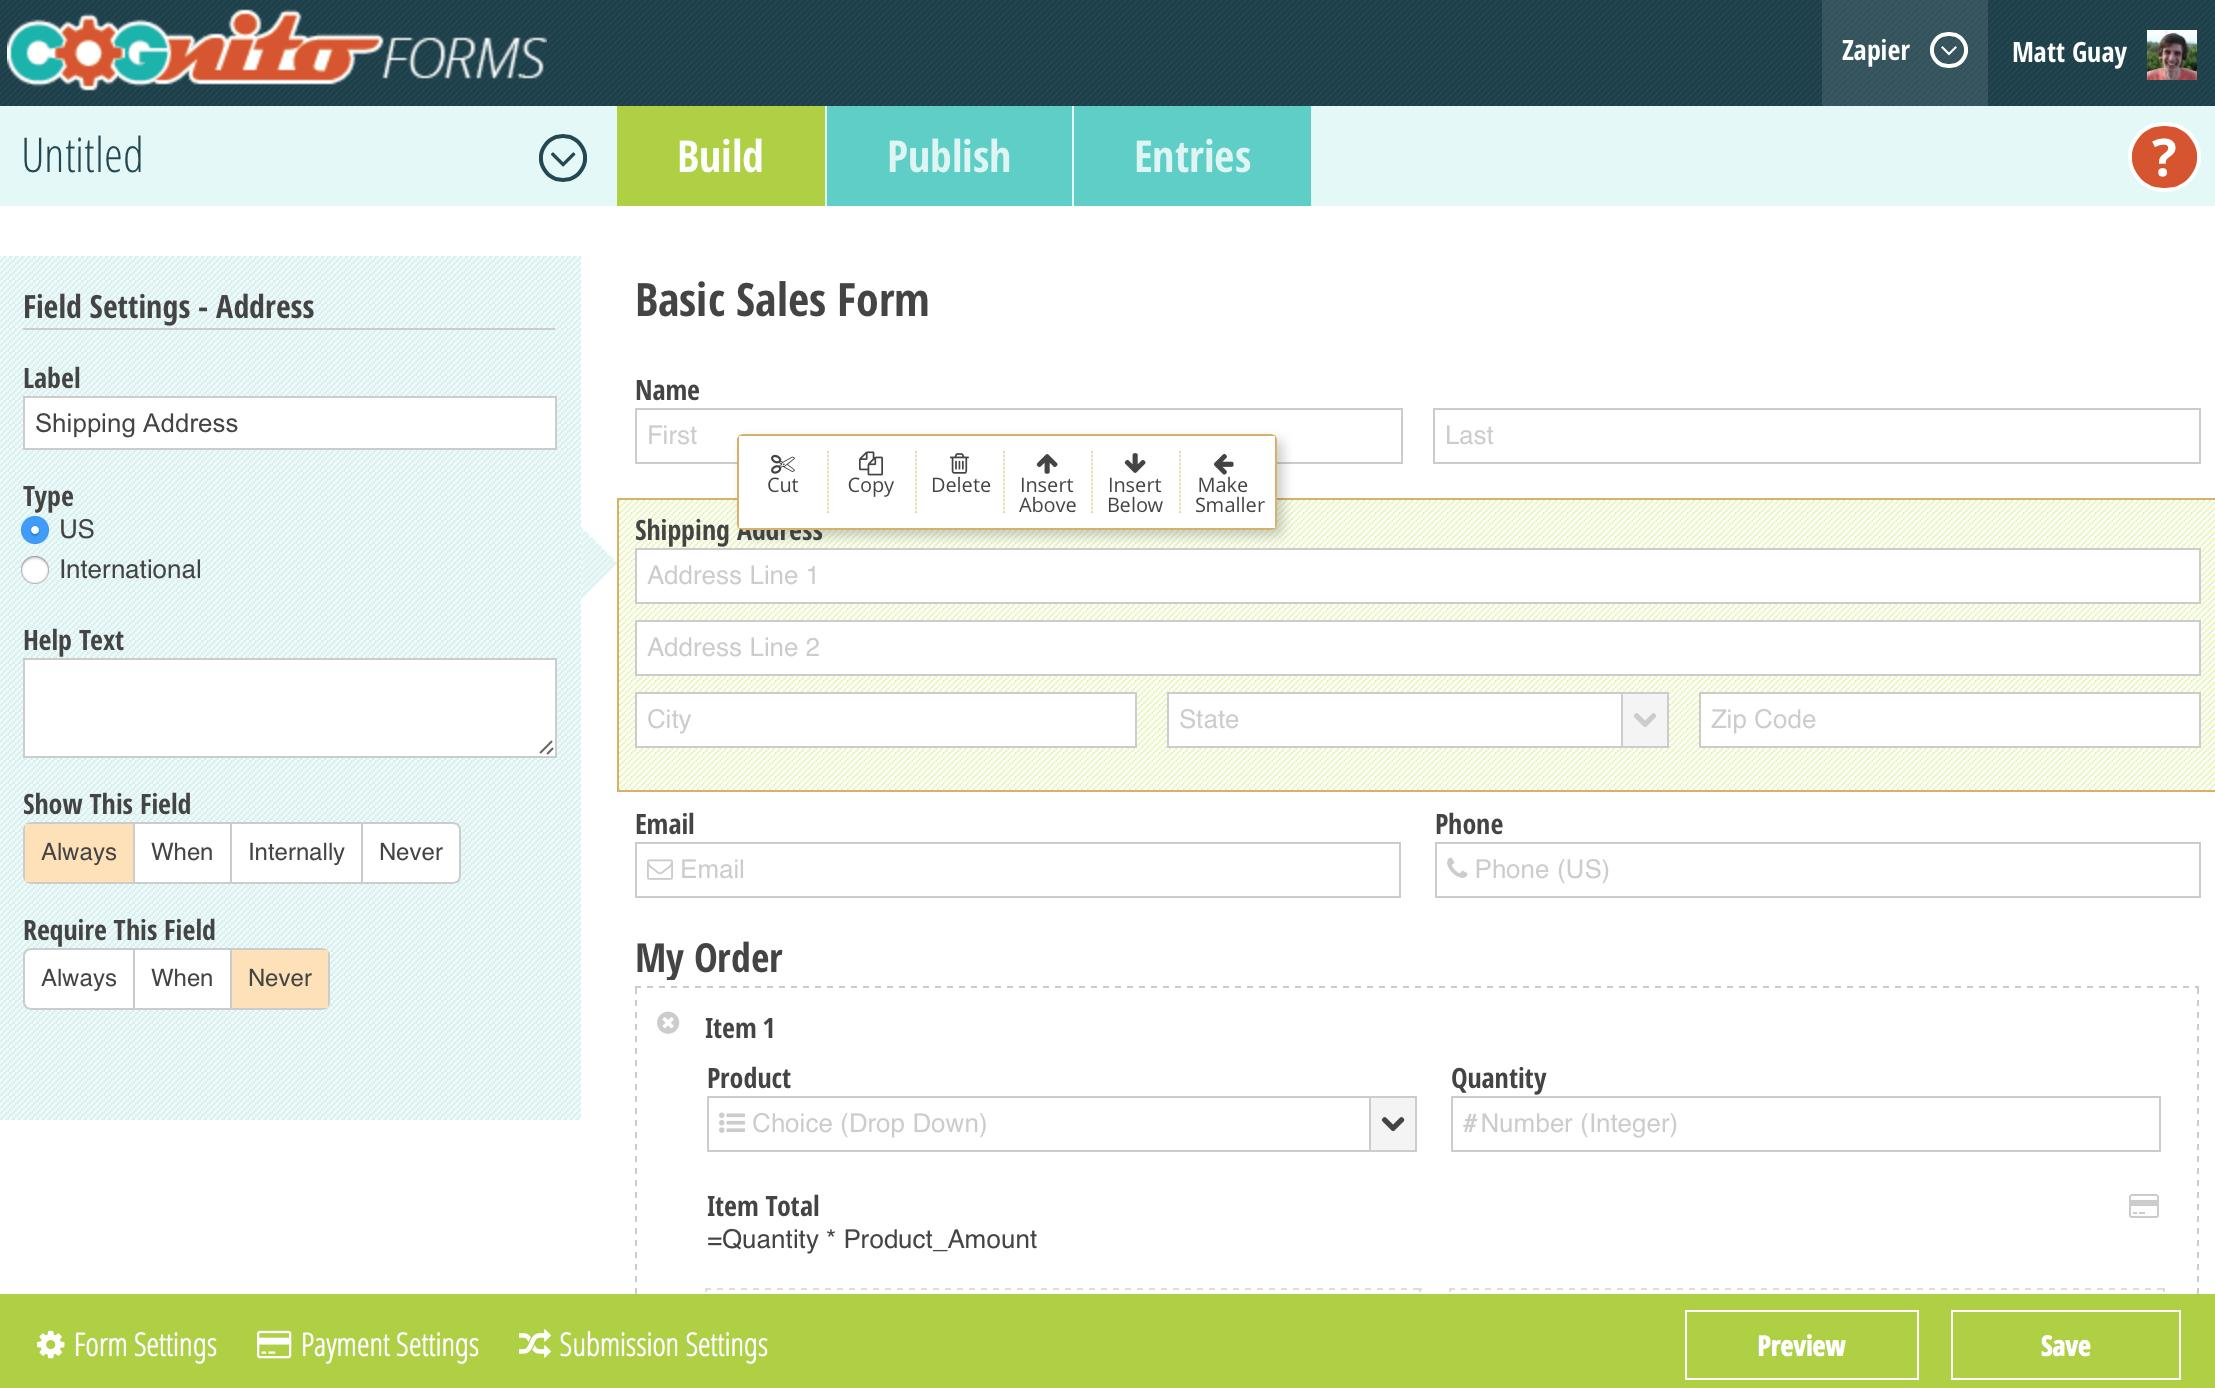button: (1060, 101, 1334, 211), (828, 106, 1080, 209), (496, 1300, 798, 1375), (1943, 1302, 2205, 1385), (1660, 1310, 1932, 1388), (238, 1298, 489, 1383), (621, 109, 827, 203), (26, 1310, 246, 1380), (910, 427, 1016, 529), (828, 425, 924, 534), (736, 432, 841, 526)
dropdown: (696, 1055, 1431, 1174), (1818, 2, 1994, 101), (509, 122, 609, 192)
textbox: (1411, 373, 2215, 485)
